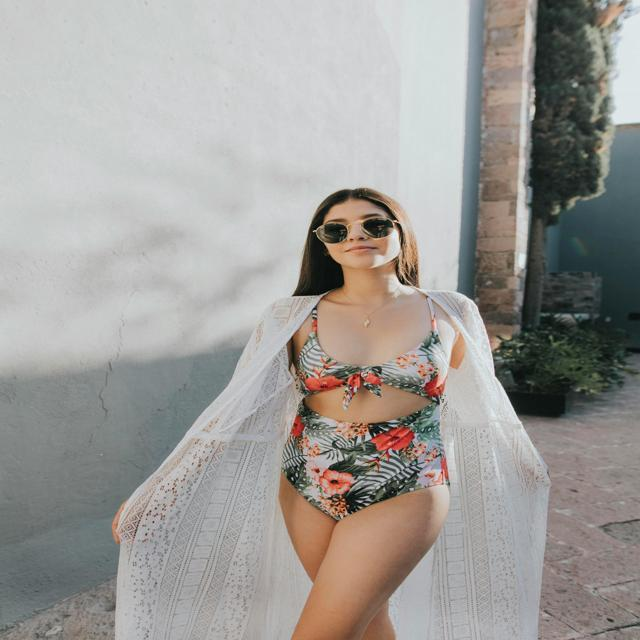2_gafas: (312, 216, 398, 244)
